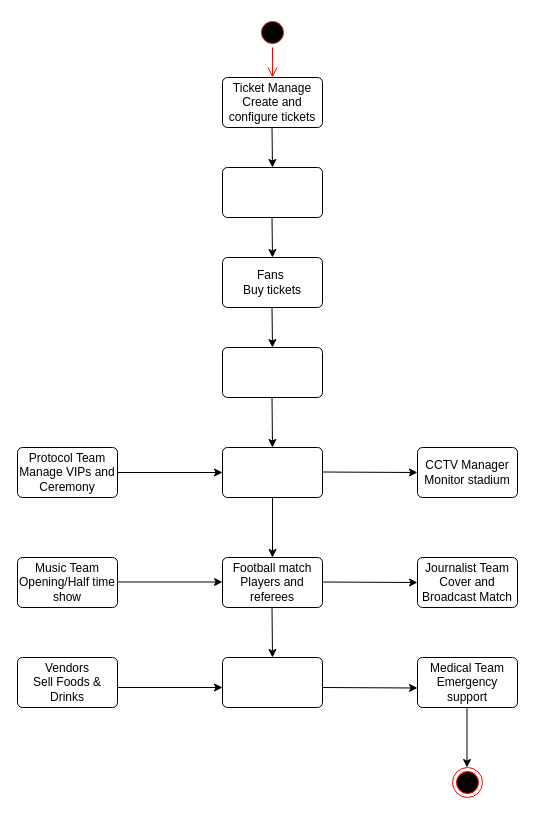
The diagram is 535 pixels wide and 815 high, and some of its shapes have lost their labels. Each missing label, with the centre of its shape:
"Fans enter stadium" goes at [272,472].
"Fans Exit stadium Cleaners clean stadium" goes at [272,682].
"Security Manager Scan & validate tickets" goes at [272,372].
"Ticketing system Sell tickets (QR code)" goes at [272,192].
